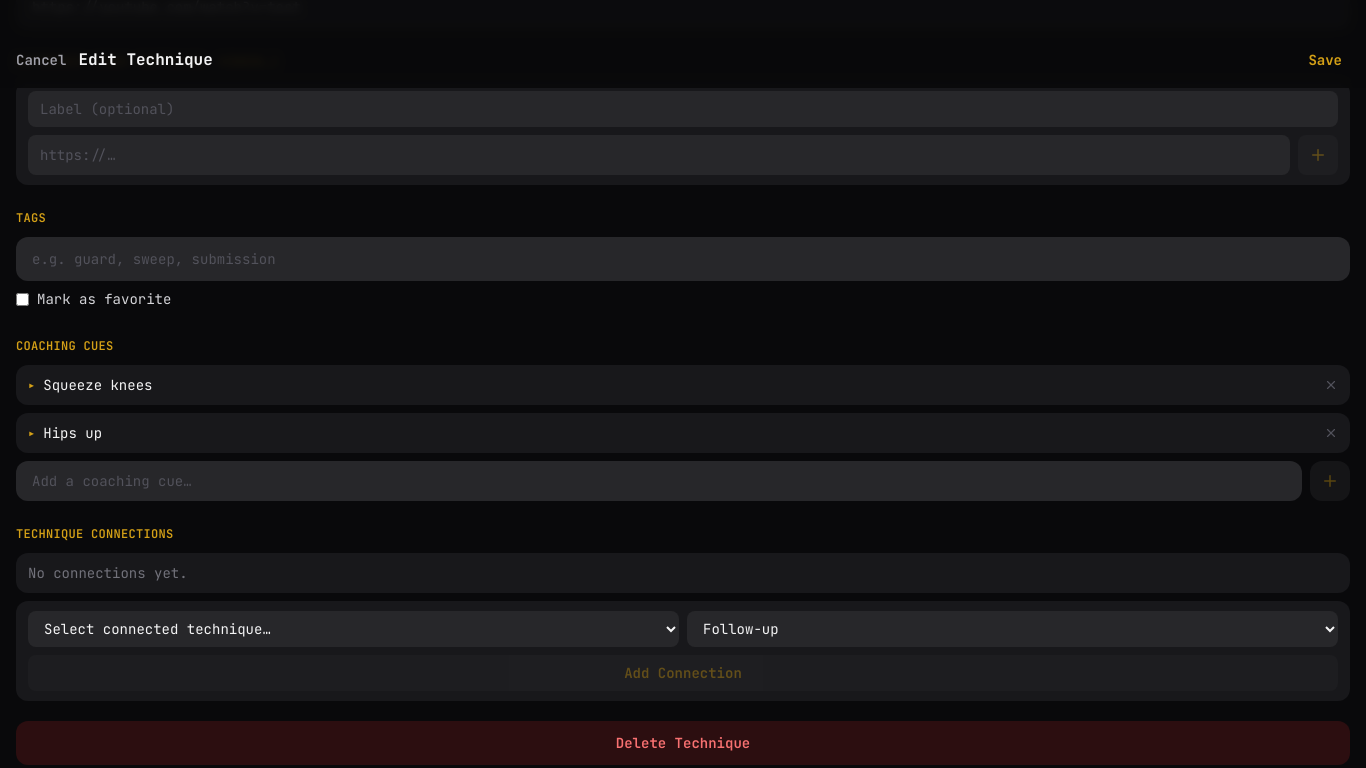
TechniqueEditPage — edit existing technique › can remove a coaching cue
(page scrolled)
Expected: the text "Squeeze knees" is shown, [43,376,152,394]
Click the button without text in the row of "Squeeze knees": (1331, 384) [1324,378,1338,392]
(page scrolled)
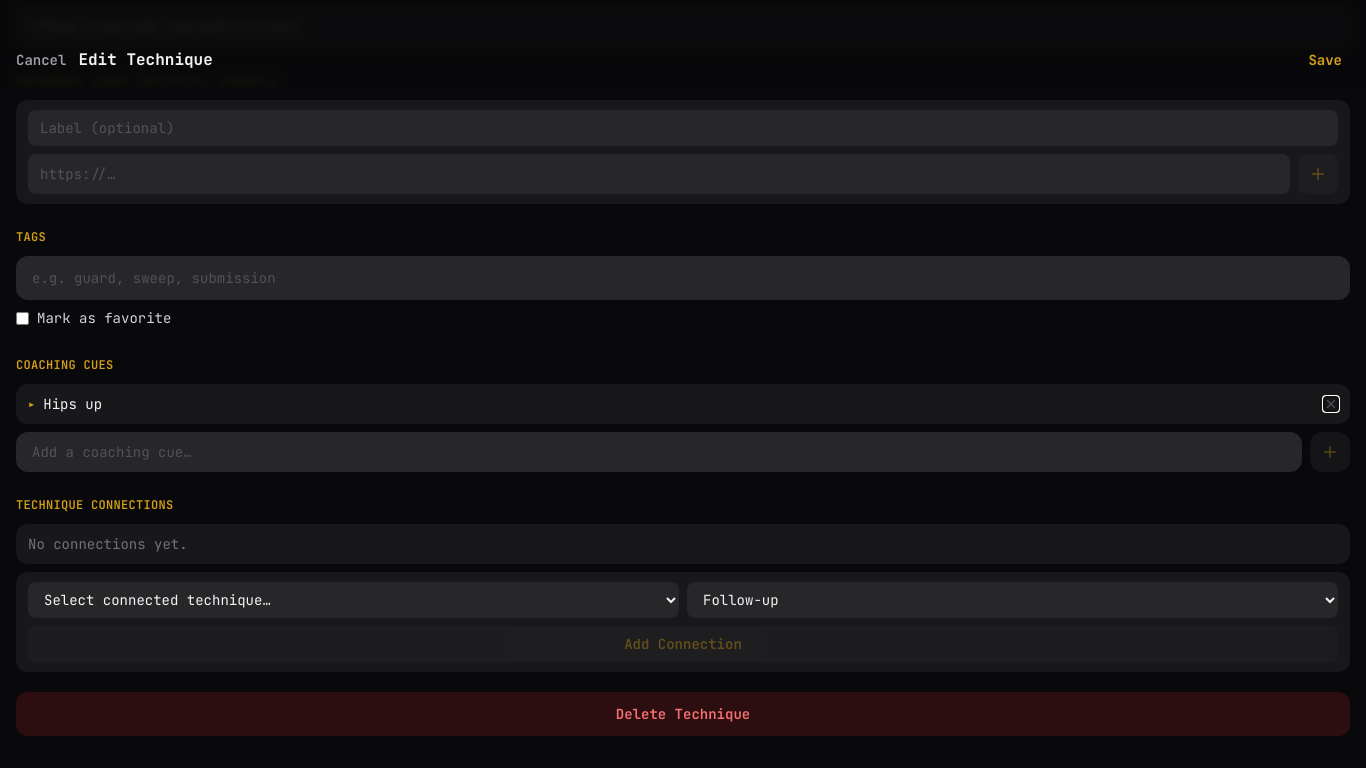
Expected: the text "Squeeze knees" is gone
